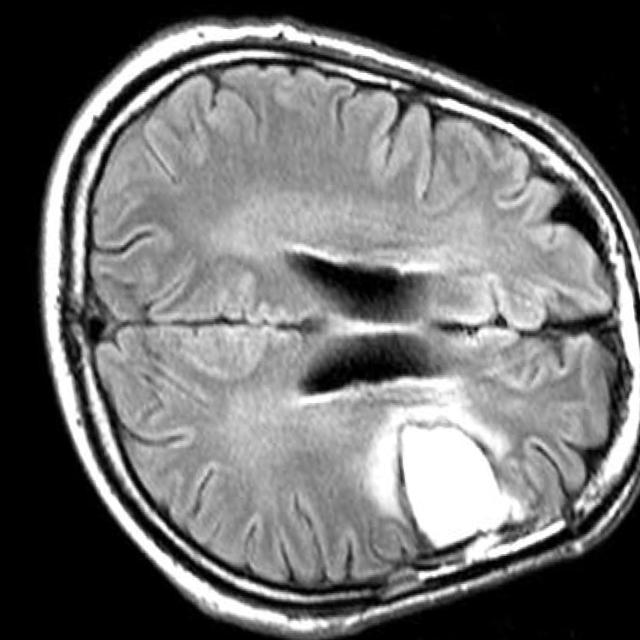Tumor: (389, 424, 499, 544)
